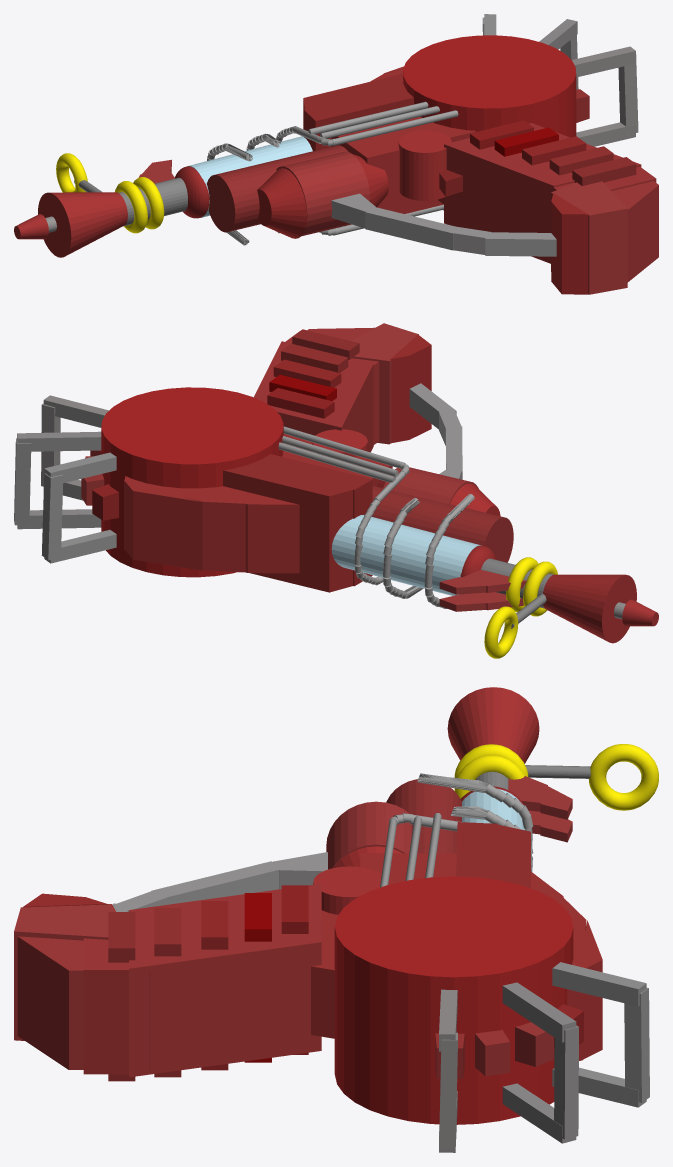
Rendered from ray_gun.fbx.
3 renders of one model, top to bottom at view 1: azimuth 30°, elevation 25°; view 2: azimuth 150°, elevation 25°; view 3: azimuth 270°, elevation 25°, orthographic. The views are drawn at different scales.
Visible parts, largest first — view 1: Cube.004, Sphere, Cylinder.004, Cube, Cylinder, Cube.001, Cube.002, Cylinder.001, Cylinder.008, CurveCircle.001, Cylinder.017, Cube.012 (+6 smaller); view 2: Cube.004, Cube.006, Cube.001, Sphere, Cylinder.017, Cylinder, CurveCircle.001, Cylinder.008, Cylinder.004, Cube, Cube.008, Cube.011 (+8 smaller); view 3: Cube.004, Sphere, CurveCircle.001, Cube, Cube.001, Cylinder.004, Cube.006, Cylinder, Cube.005, Cylinder.001, Cube.002, Cylinder.008 (+8 smaller).
Boxes of the visible parts, bbox=[...] form: Cube.004: bbox=[403, 14, 658, 294]; Sphere: bbox=[14, 159, 209, 257]; Cylinder.004: bbox=[257, 151, 388, 238]; Cube: bbox=[331, 193, 556, 256]; Cylinder: bbox=[207, 145, 348, 232]; Cube.001: bbox=[303, 74, 413, 150]; Cube.002: bbox=[332, 116, 475, 213]; Cylinder.001: bbox=[398, 130, 451, 200]; Cylinder.008: bbox=[308, 101, 458, 145]; CurveCircle.001: bbox=[56, 153, 164, 233]; Cylinder.017: bbox=[187, 136, 312, 217]; Cube.012: bbox=[572, 157, 636, 185]; Cube.004: bbox=[14, 323, 431, 577]; Cube.006: bbox=[124, 476, 299, 573]; Cube.001: bbox=[223, 454, 372, 592]; Sphere: bbox=[439, 545, 658, 643]; Cylinder.017: bbox=[331, 515, 481, 595]; Cylinder: bbox=[372, 486, 513, 562]; CurveCircle.001: bbox=[484, 557, 557, 658]; Cylinder.008: bbox=[278, 426, 405, 482]; Cylinder.004: bbox=[376, 467, 500, 516]; Cube: bbox=[409, 383, 462, 479]; Cube.008: bbox=[267, 388, 334, 418]; Cube.011: bbox=[281, 343, 348, 372]; Cube.004: bbox=[14, 876, 649, 1152]; Sphere: bbox=[447, 687, 605, 842]; CurveCircle.001: bbox=[454, 744, 658, 810]; Cube: bbox=[112, 852, 327, 911]; Cube.001: bbox=[456, 822, 530, 888]; Cylinder.004: bbox=[326, 801, 411, 869]; Cube.006: bbox=[531, 871, 602, 1060]; Cylinder: bbox=[386, 779, 461, 853]; Cube.005: bbox=[311, 910, 338, 1038]; Cylinder.001: bbox=[313, 866, 381, 914]; Cube.002: bbox=[360, 853, 456, 884]; Cylinder.008: bbox=[380, 813, 441, 887].
Bounding box in the file's own units: 1371 × 235 × 929.
